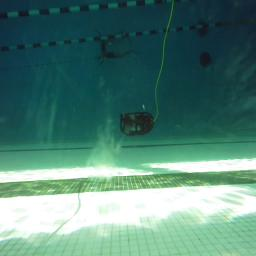Side: (120, 112, 155, 137)
